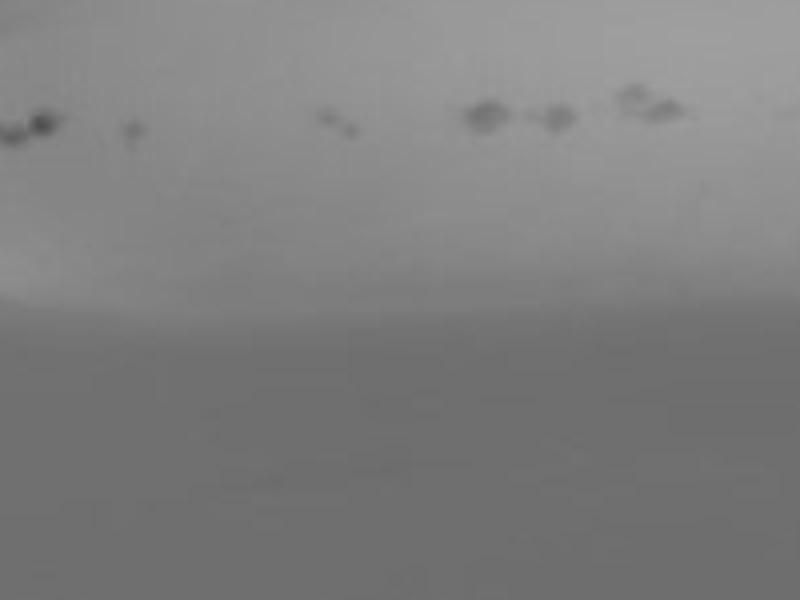defect: (467, 97, 511, 139), (638, 100, 687, 127), (542, 102, 575, 137), (29, 110, 64, 136), (607, 83, 649, 101), (1, 122, 27, 150), (118, 120, 150, 140), (317, 103, 343, 125), (344, 123, 363, 144), (520, 106, 541, 125)
